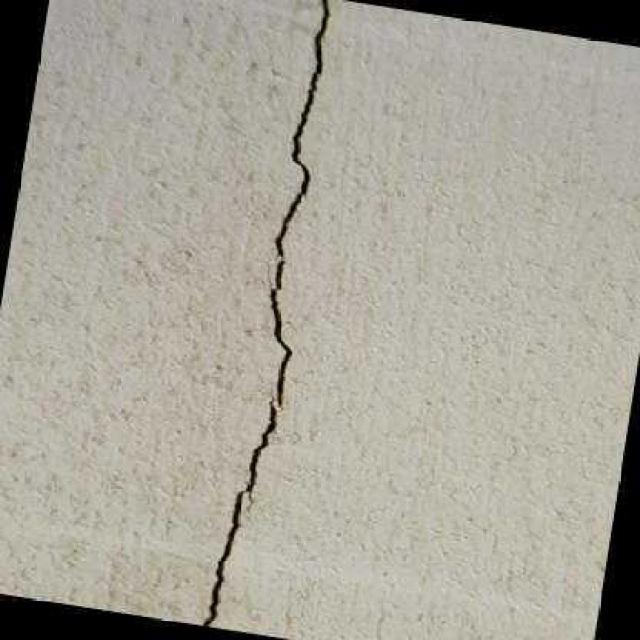D00: (197, 0, 327, 626)
